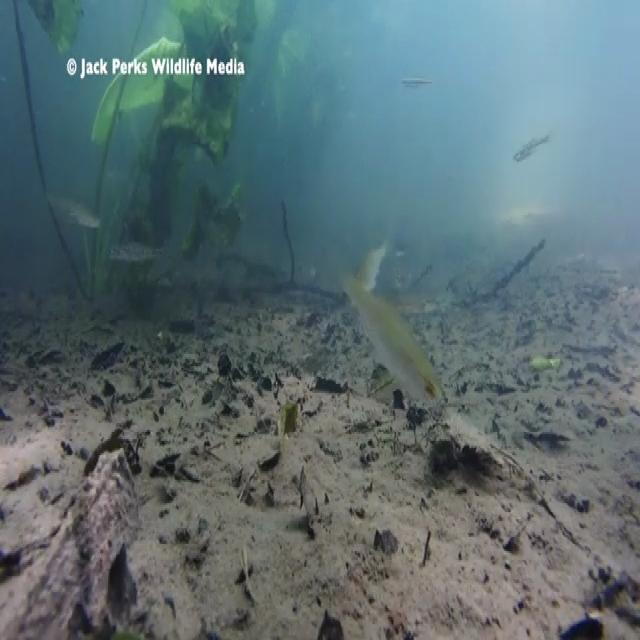Cakil Baligi: (331, 262, 444, 408)
